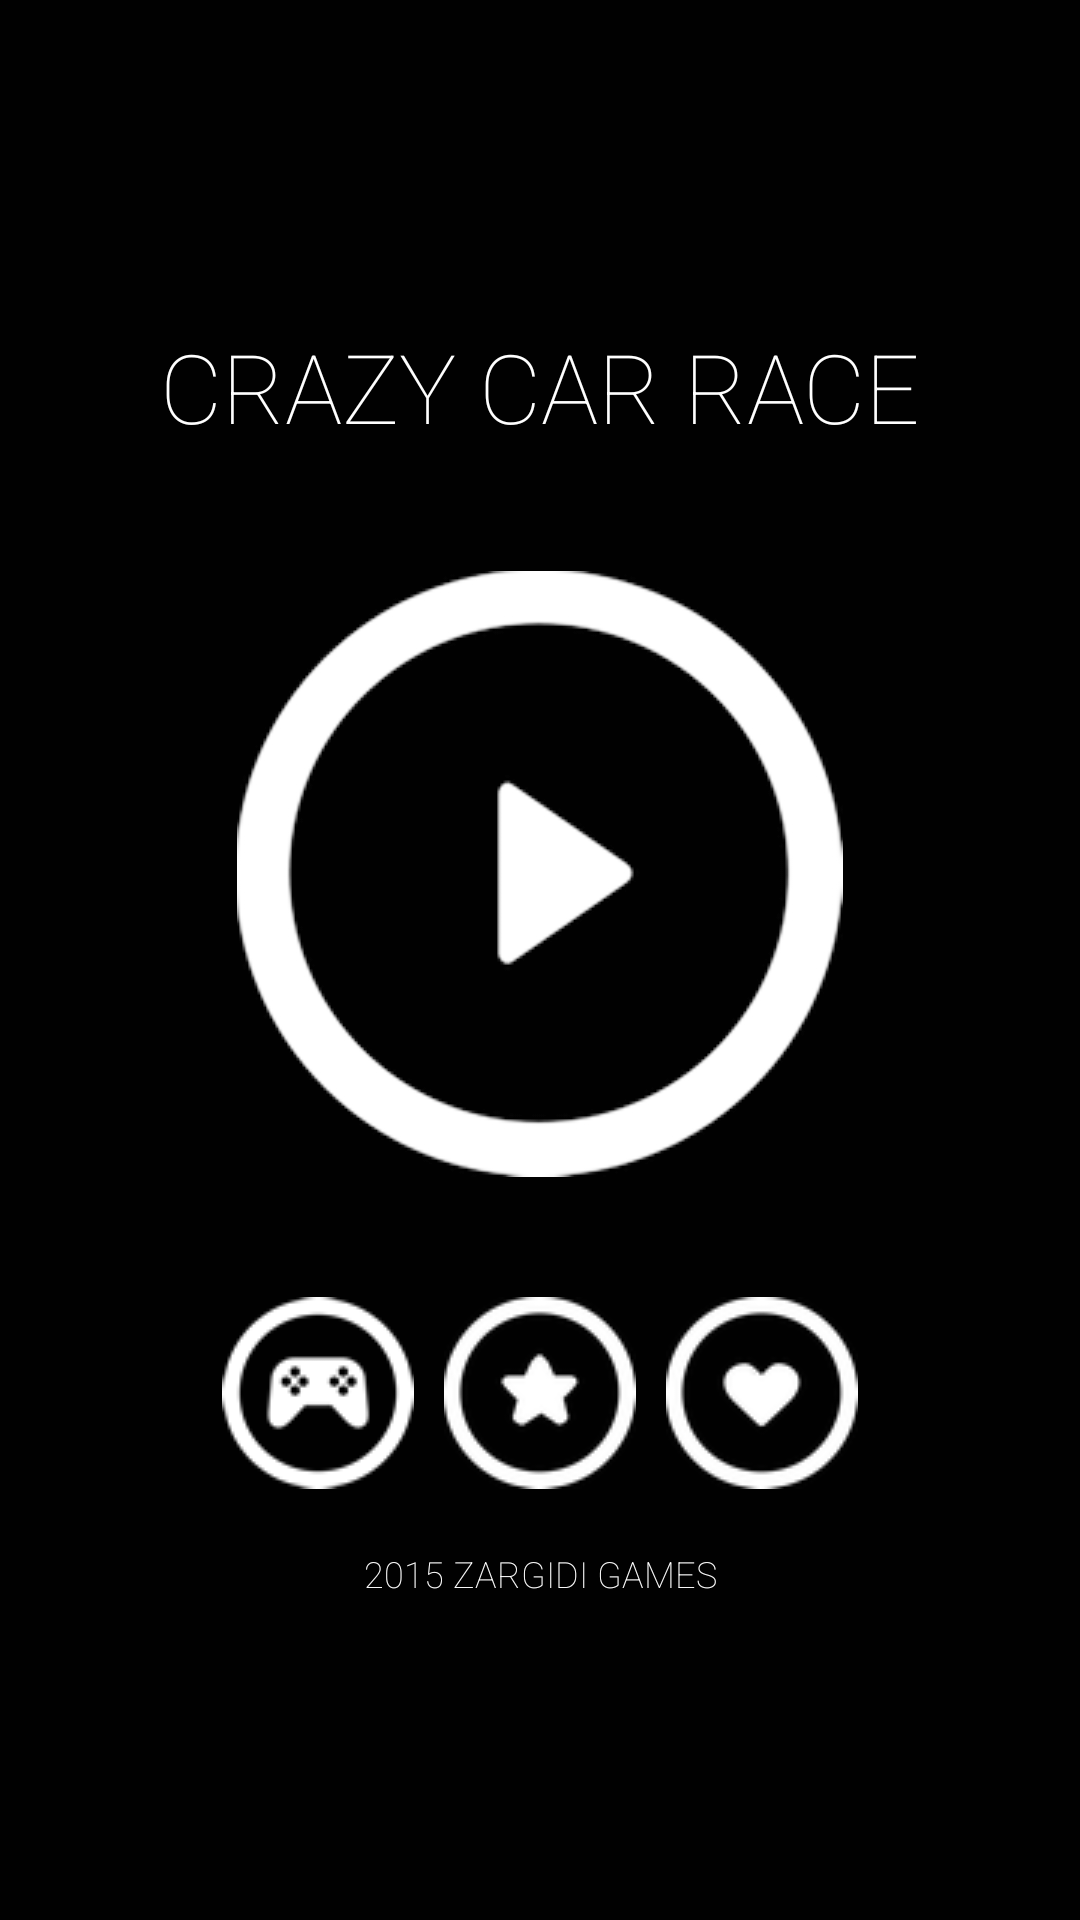

Icons on this 1080px×1920px Android screen, each with the point to tap as (x=x, y=y):
love: (x=762, y=1393)
star: (x=540, y=1393)
